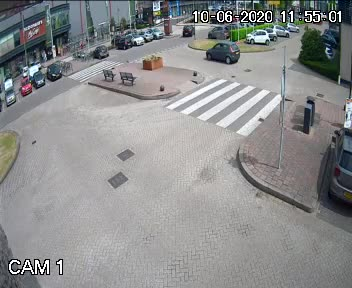car: (202, 37, 246, 71), (181, 23, 196, 38)
